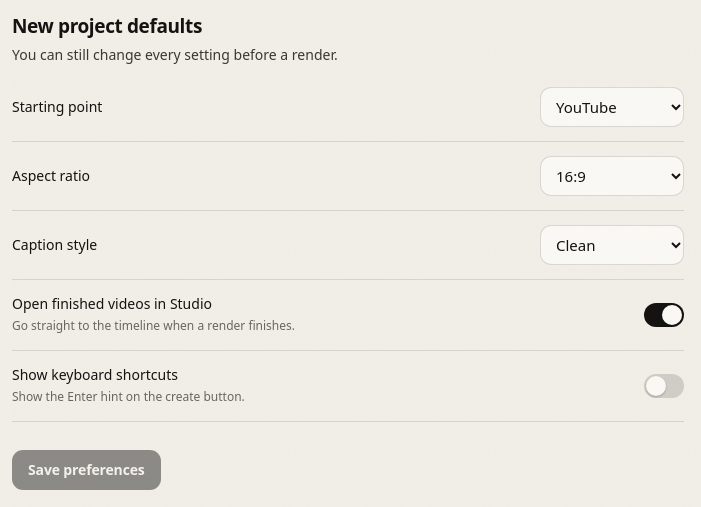
Test: Preferences loads saved values and enables save only after an edit
This screenshot has width=701, height=507.
expect the dropdown labelled "Starting point" shows "YouTube": met, box [540,86,684,126]
expect the dropdown labelled "Caption style" shows "Clean": met, box [540,224,684,264]
Select "Square" in the dropdown labelled "Aspect ratio": [612, 176] box [540,156,684,196]
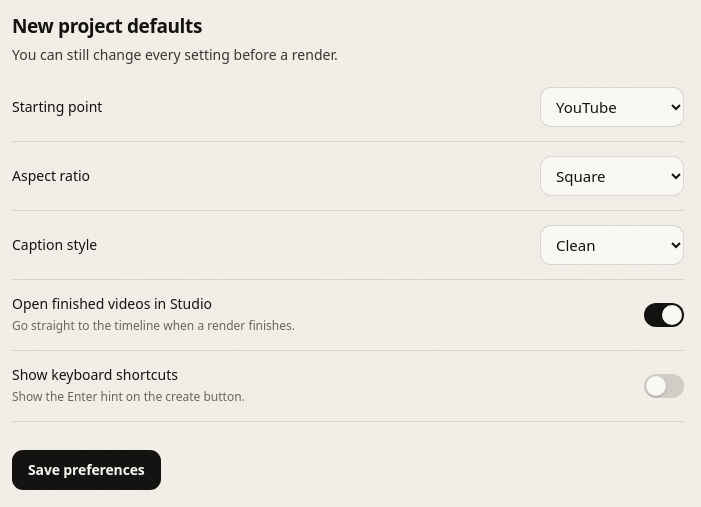
Click the switch labelled "Show keyboard shortcuts": [95, 374] box [12,350,684,422]
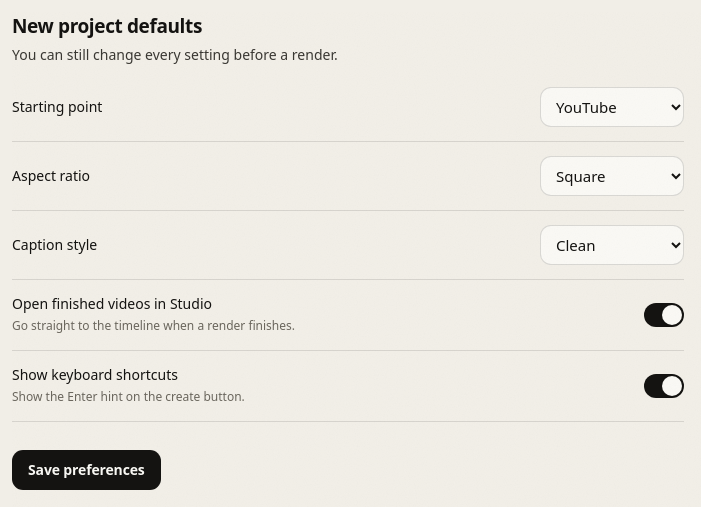
expect the button "Save preferences" is enabled: met
Click the button "Save preferences": [86, 470] box [12,450,161,490]
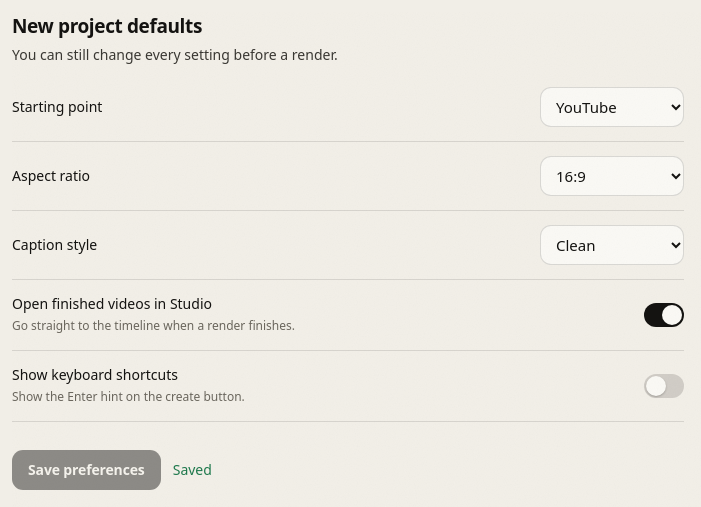
expect the text "Saved" is shown: met, box [173,460,212,480]
expect the button "Save preferences" is disabled: met, box [12,450,161,490]
